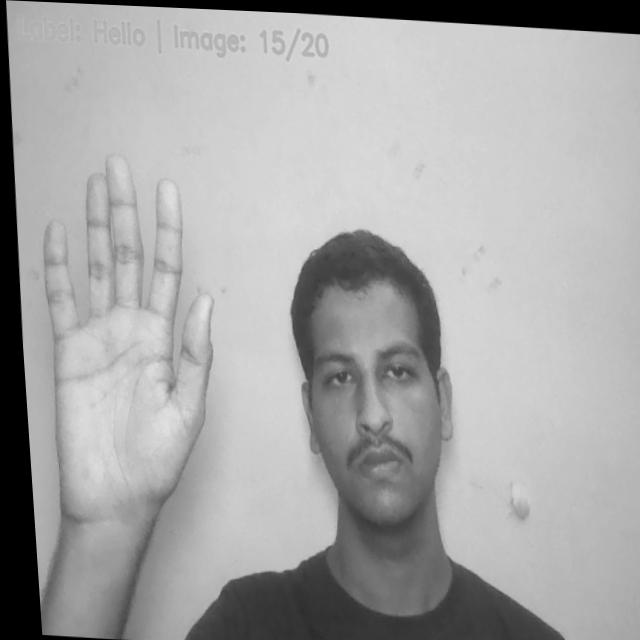Hello: (19, 147, 225, 529)
